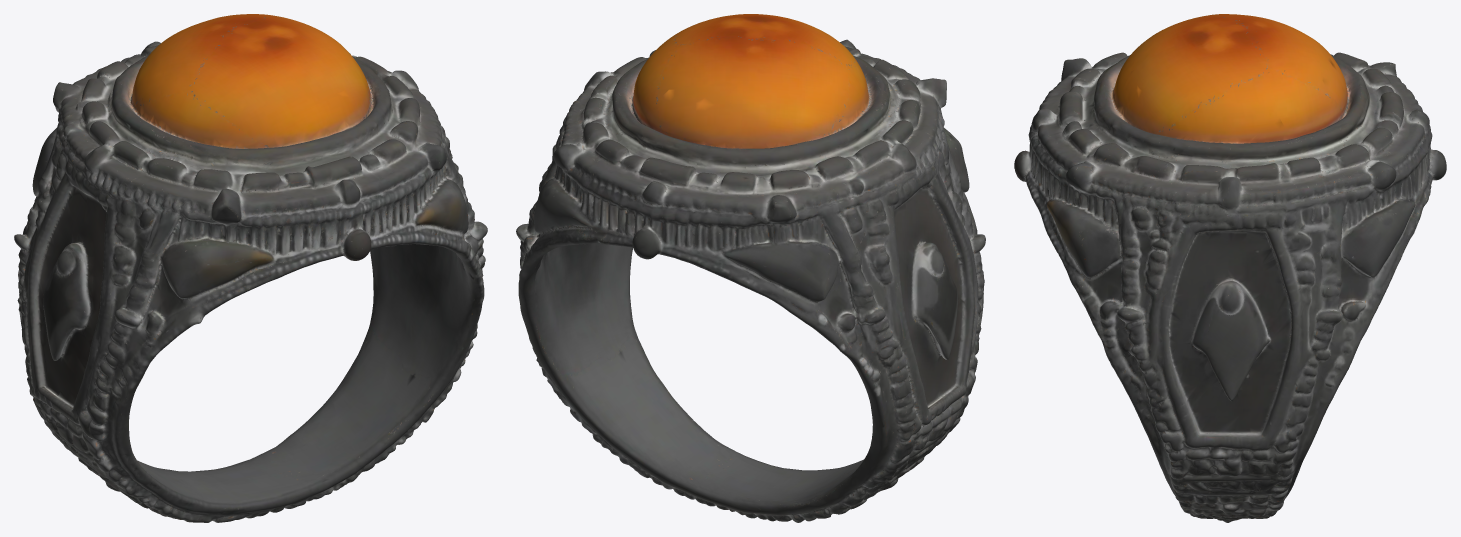
Rendered from ring-2029.glb.
3 views of the same model, side by side, from view 1: azimuth 30°, elevation 25°; view 2: azimuth 150°, elevation 25°; view 3: azimuth 270°, elevation 25° (orthographic). The views are drawn at different scales.
Size of the model in its own units: 1.77 by 2 by 1.69.
1 material, 1 textured.
